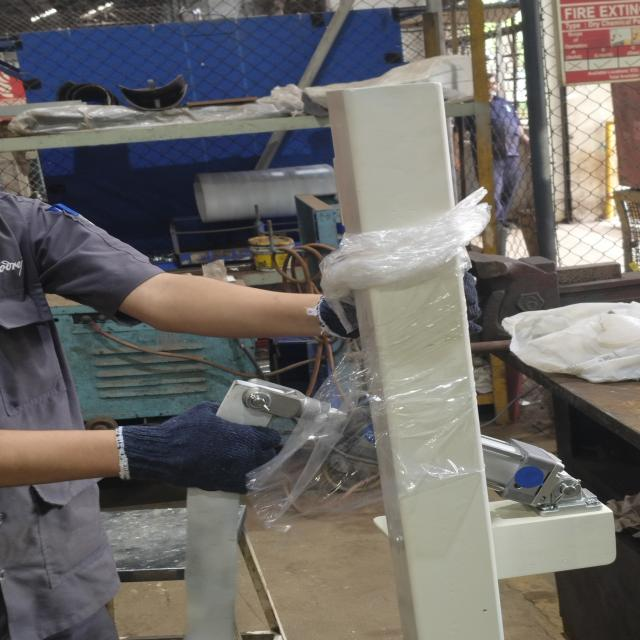Gloves-Detection: (114, 410, 273, 488)
